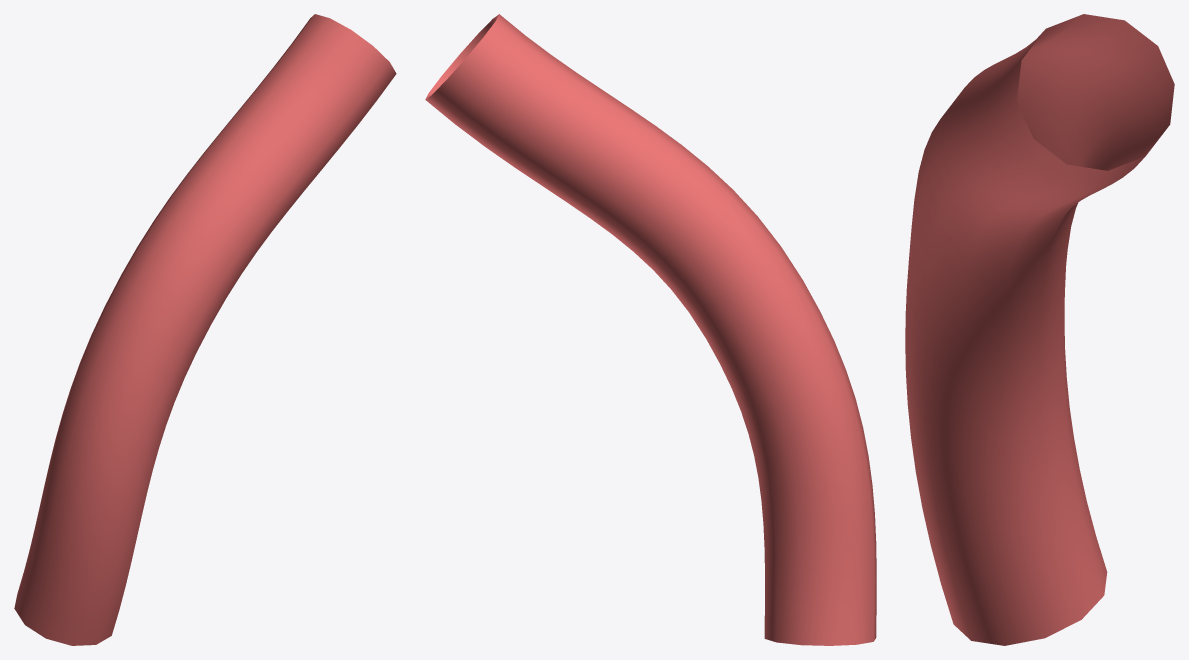
The model's file is Subscapular_artery.l_BezierCurve.159.glb.
3 views of the same model, side by side, from view 1: azimuth 30°, elevation 25°; view 2: azimuth 150°, elevation 25°; view 3: azimuth 270°, elevation 25° (orthographic). The views are drawn at different scales.
Visible parts, largest first — view 1: Subscapular_artery.l_BezierCurve.159; view 2: Subscapular_artery.l_BezierCurve.159; view 3: Subscapular_artery.l_BezierCurve.159.
Part boxes in pixels (left/top/right/bottom): Subscapular_artery.l_BezierCurve.159: left=14, top=14, right=396, bottom=645; Subscapular_artery.l_BezierCurve.159: left=425, top=14, right=876, bottom=645; Subscapular_artery.l_BezierCurve.159: left=905, top=14, right=1174, bottom=645.
Size of the model in its own units: 0.0127 by 0.0167 by 0.00497.
